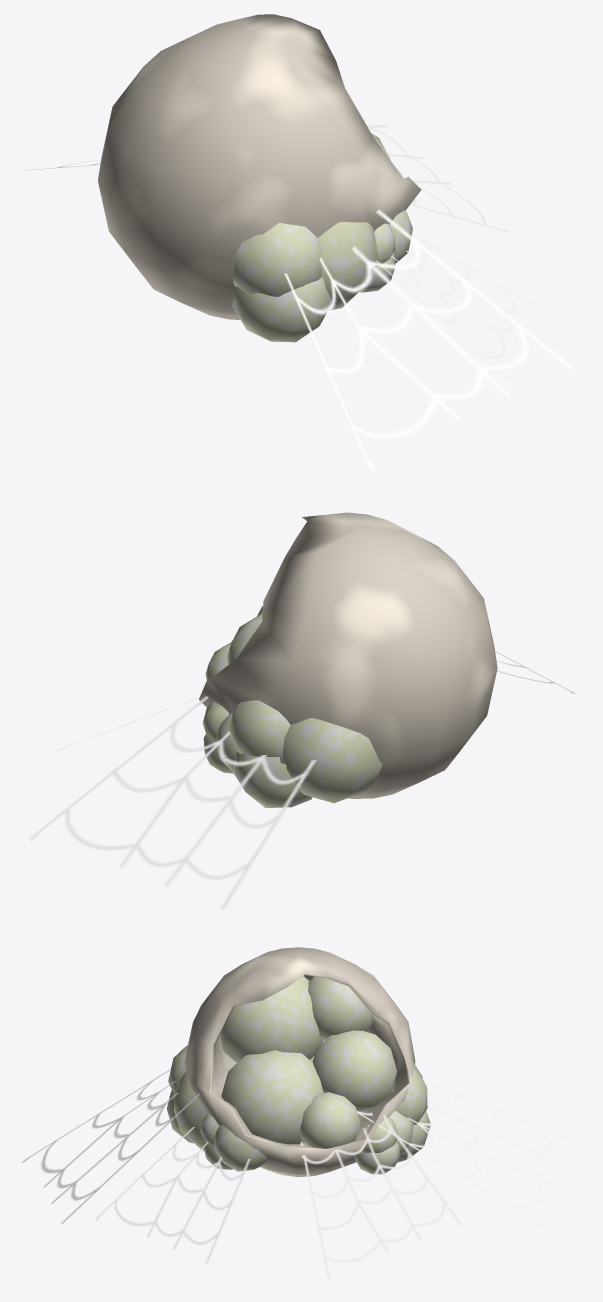
File: SpiderSpawners.glb
3 renders of one model, top to bottom at view 1: azimuth 30°, elevation 25°; view 2: azimuth 150°, elevation 25°; view 3: azimuth 270°, elevation 25°, orthographic. The views are drawn at different scales.
Visible parts, largest first — view 1: SpiderSpawner2-con, Web8, Web7, Web5; view 2: SpiderSpawner2-con, Web6; view 3: SpiderSpawner2-con, Web5, Web6, Web7, Web8.
Part boxes in pixels (x1,y1,x2,y2): SpiderSpawner2-con: [98, 14, 421, 342]; Web8: [284, 209, 573, 471]; Web7: [376, 234, 538, 378]; Web5: [367, 125, 510, 232]; SpiderSpawner2-con: [199, 512, 497, 807]; Web6: [28, 696, 317, 909]; SpiderSpawner2-con: [166, 947, 430, 1177]; Web5: [300, 1114, 462, 1280]; Web6: [357, 1081, 580, 1227]; Web7: [95, 1127, 250, 1264]; Web8: [22, 1062, 237, 1224].
Size of the model in its own units: 3.29 by 2.25 by 5.04.
1 material, 1 textured.
